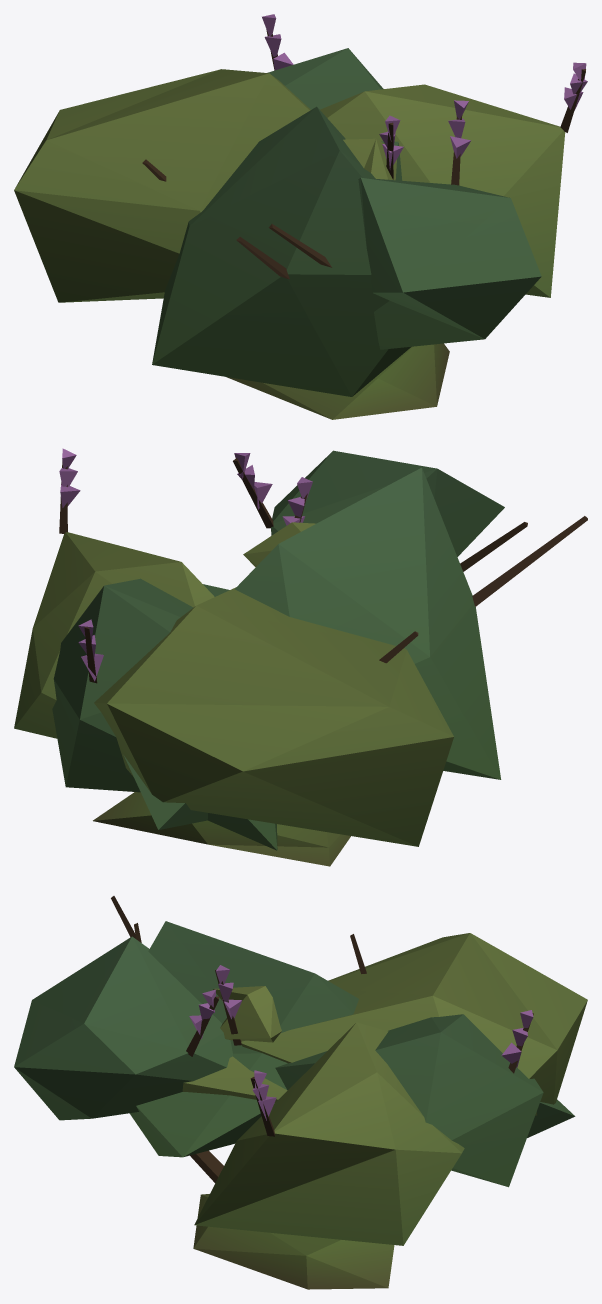
File: heather-shrub.glb
3 views of the same model, one above another, from view 1: azimuth 30°, elevation 25°; view 2: azimuth 150°, elevation 25°; view 3: azimuth 270°, elevation 25° (orthographic). The views are drawn at different scales.
Parts seen in each view (by area): view 1: heather_shrub; view 2: heather_shrub; view 3: heather_shrub.
Boxes of the visible parts, x1=… form: heather_shrub: x1=14, y1=14, x2=587, y2=419; heather_shrub: x1=14, y1=448, x2=587, y2=866; heather_shrub: x1=14, y1=896, x2=587, y2=1289.
Bounding box in the file's own units: 0.8959 × 0.5611 × 1.
